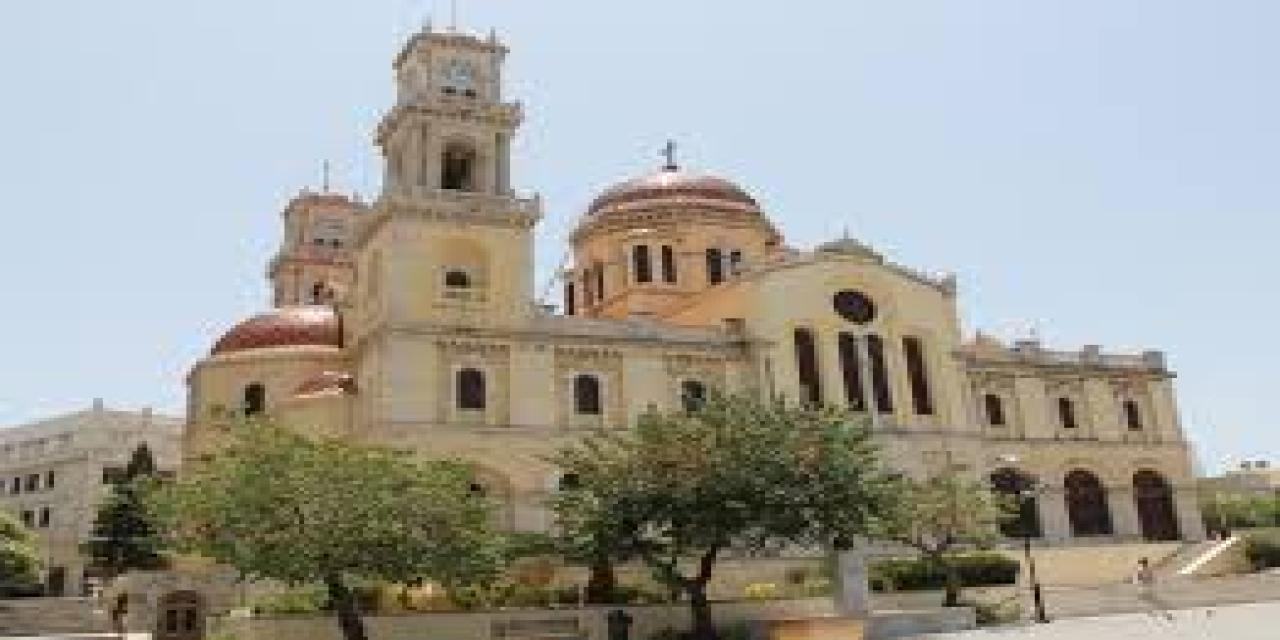Agios Minas: (180, 9, 1201, 575)
